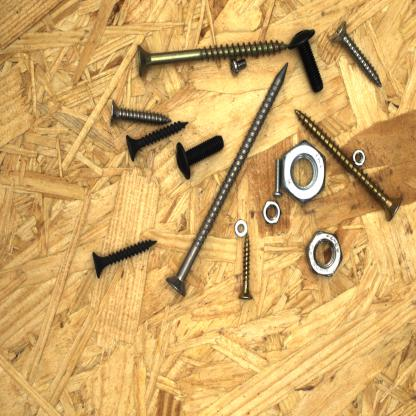screw: (164, 60, 291, 300), (292, 106, 404, 223), (133, 38, 291, 80), (328, 17, 384, 90), (123, 118, 191, 166), (91, 237, 159, 282), (284, 26, 325, 97), (173, 133, 227, 182), (108, 96, 174, 130), (236, 230, 256, 303), (270, 157, 284, 201), (227, 53, 249, 79)
